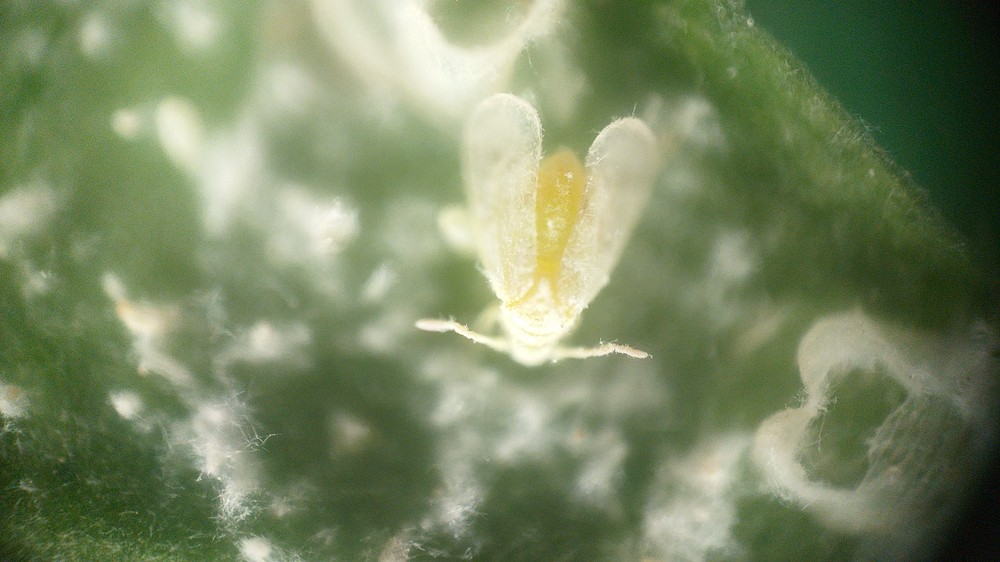Mosca Blanca: (428, 95, 671, 373)
